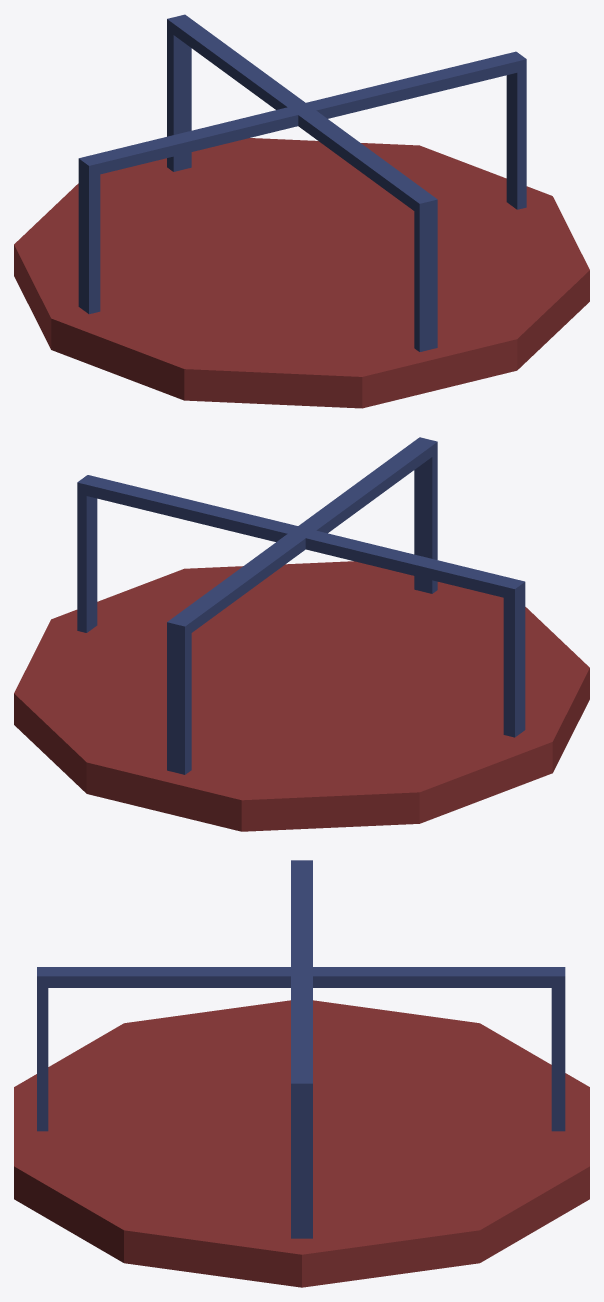
File: spinny_wheel.fbx
3 renders of one model, top to bottom at view 1: azimuth 30°, elevation 25°; view 2: azimuth 150°, elevation 25°; view 3: azimuth 270°, elevation 25°, orthographic. The views are drawn at different scales.
Parts seen in each view (by area): view 1: pCube3; view 2: pCube3; view 3: pCube3.
Part boxes in pixels (x1,y1,x2,y2): pCube3: [14, 14, 589, 408]; pCube3: [14, 437, 589, 831]; pCube3: [14, 860, 589, 1287].
Bounding box in the file's own units: 4.92 × 1.69 × 4.68.
